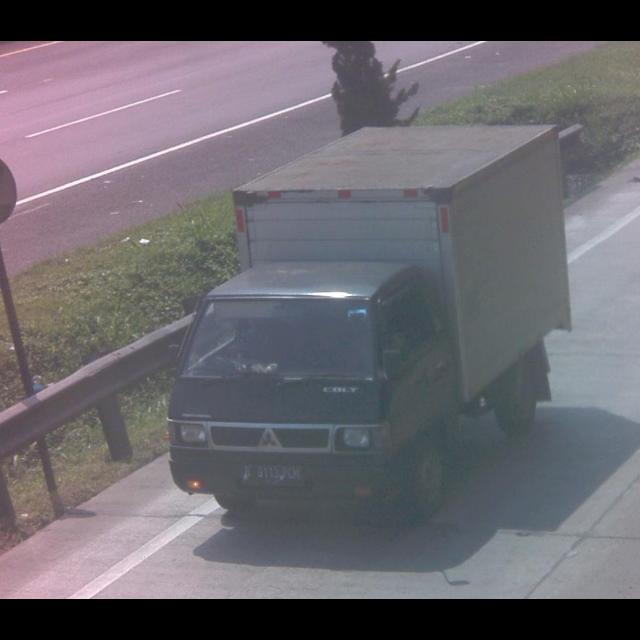plate: (241, 465, 303, 485)
